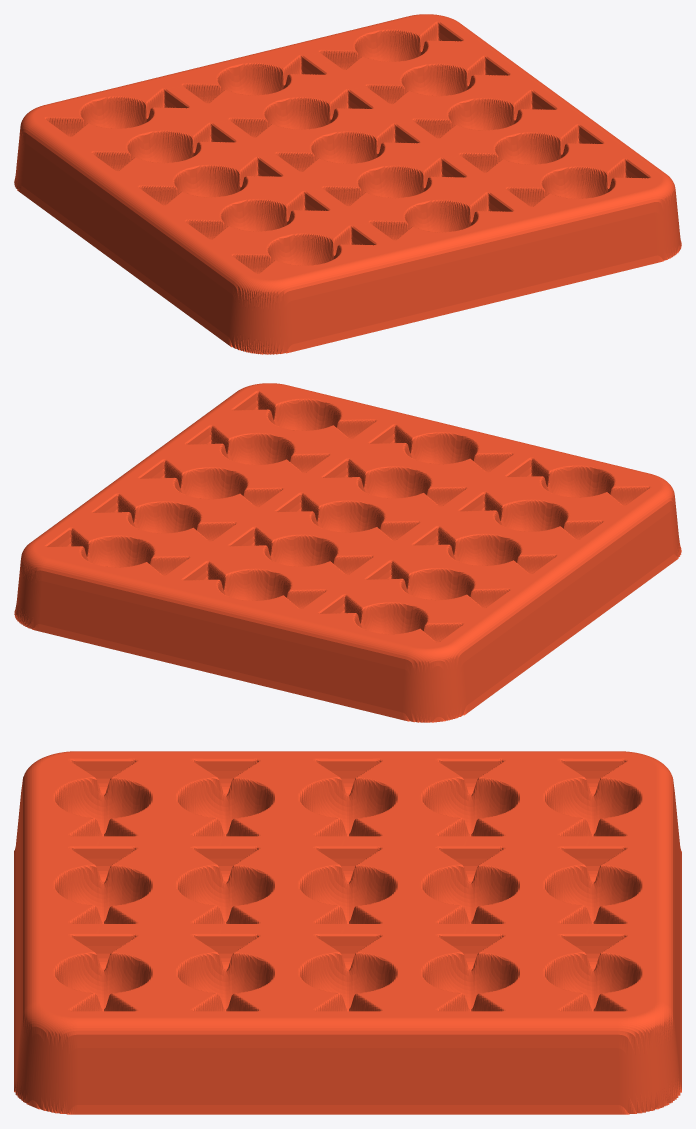
File: mold.glb
The picture shows the model from 3 angles, top to bottom: view 1: azimuth 30°, elevation 25°; view 2: azimuth 150°, elevation 25°; view 3: azimuth 270°, elevation 25°; orthographic projection. The views are drawn at different scales.
Parts seen in each view (by area): view 1: geometry_0; view 2: geometry_0; view 3: geometry_0.
Part boxes in pixels (bbox=[...]): geometry_0: bbox=[14, 14, 681, 354]; geometry_0: bbox=[14, 383, 681, 722]; geometry_0: bbox=[14, 751, 681, 1114].
Bounding box in the file's own units: 0.0966 × 0.0136 × 0.0953.
